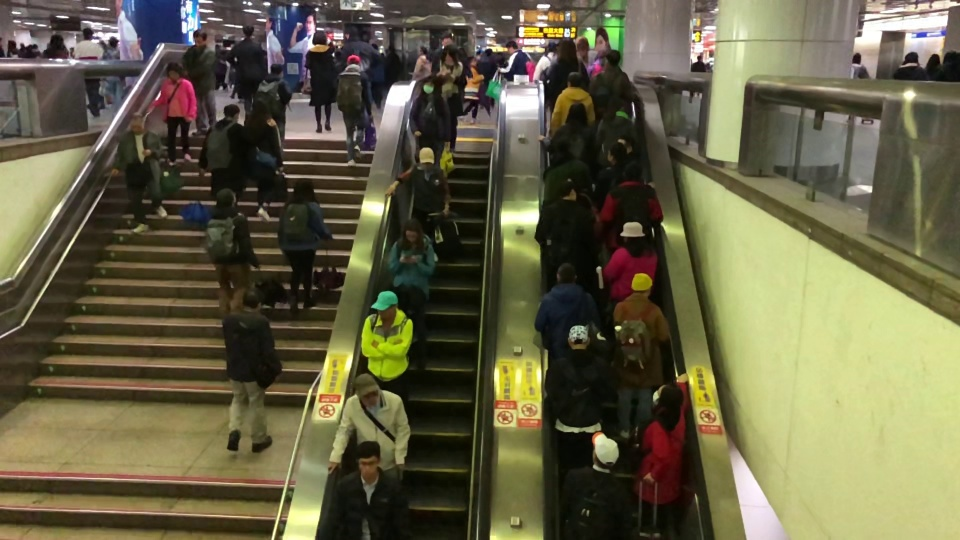person_head: (355, 439, 382, 484), (591, 430, 621, 470), (352, 371, 380, 407), (651, 382, 684, 410), (370, 289, 398, 321), (563, 101, 589, 128), (565, 323, 590, 350), (239, 286, 264, 312), (620, 220, 645, 246), (401, 217, 423, 245), (630, 271, 653, 296), (292, 176, 315, 200), (554, 261, 578, 284), (606, 141, 627, 165), (556, 179, 577, 203), (551, 136, 571, 161), (215, 187, 237, 207), (420, 75, 441, 95), (250, 97, 269, 118), (127, 111, 145, 133), (618, 164, 641, 181), (559, 39, 577, 60), (417, 145, 433, 167), (222, 103, 241, 121), (605, 95, 623, 113), (166, 60, 183, 78), (566, 71, 583, 88), (191, 27, 207, 45), (576, 36, 589, 57), (312, 29, 327, 47), (606, 48, 621, 66), (441, 47, 456, 64), (269, 61, 283, 77), (441, 30, 455, 46), (926, 52, 940, 68), (49, 33, 63, 48), (344, 25, 359, 39), (902, 51, 918, 64), (240, 23, 254, 37), (943, 50, 957, 64), (346, 53, 360, 66), (82, 27, 93, 40), (506, 40, 517, 53), (108, 37, 119, 49), (545, 42, 557, 53), (595, 49, 608, 58), (852, 51, 861, 63), (468, 55, 477, 65), (8, 40, 16, 49), (695, 53, 701, 61), (420, 46, 425, 54), (32, 43, 38, 49)
person_vbox: (220, 286, 284, 454), (612, 272, 672, 440), (631, 372, 690, 540), (326, 372, 411, 483), (544, 324, 604, 473), (558, 431, 639, 540), (321, 440, 408, 540), (275, 176, 334, 317), (384, 146, 451, 263), (387, 217, 436, 374), (203, 187, 259, 319), (532, 179, 600, 285), (110, 111, 168, 235), (534, 261, 601, 358), (594, 163, 664, 255), (359, 289, 414, 396), (145, 61, 198, 165), (197, 103, 252, 199), (244, 97, 285, 225), (600, 221, 658, 307), (181, 28, 222, 137), (335, 54, 373, 169), (593, 141, 655, 208), (407, 74, 452, 162), (225, 23, 266, 114), (304, 29, 339, 134), (542, 135, 593, 203), (537, 103, 595, 162), (594, 95, 636, 169), (548, 71, 595, 136), (588, 48, 635, 111), (438, 46, 467, 148), (257, 61, 293, 143), (74, 27, 104, 116), (548, 39, 587, 104), (341, 25, 379, 78), (431, 31, 471, 76), (463, 54, 485, 125), (102, 37, 123, 111), (496, 40, 532, 82), (532, 42, 559, 79), (893, 51, 925, 81), (690, 54, 707, 98), (42, 33, 69, 59), (576, 36, 599, 66), (587, 48, 609, 77), (941, 50, 960, 82), (851, 51, 867, 78), (7, 41, 18, 58), (31, 44, 40, 57)
